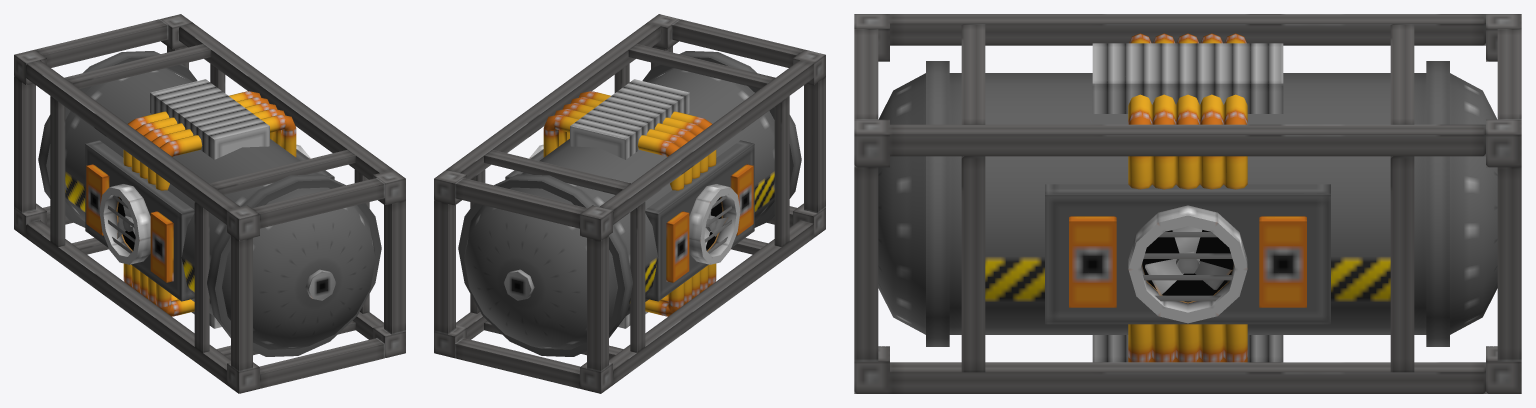
The model's file is compressor_compact.obj.
The picture shows the model from 3 angles, left to right: view 1: azimuth 30°, elevation 25°; view 2: azimuth 150°, elevation 25°; view 3: azimuth 270°, elevation 25°; orthographic projection. The views are drawn at different scales.
Visible parts, largest first — view 1: Condenser; view 2: Condenser; view 3: Condenser, Fan2.
Boxes of the visible parts, left/top/right/bottom form: Condenser: left=14, top=14, right=405, bottom=393; Condenser: left=434, top=14, right=825, bottom=393; Condenser: left=854, top=14, right=1521, bottom=393; Fan2: left=1145, top=226, right=1232, bottom=295.
Bounding box in the file's own units: 3.25 × 3.25 × 7.
